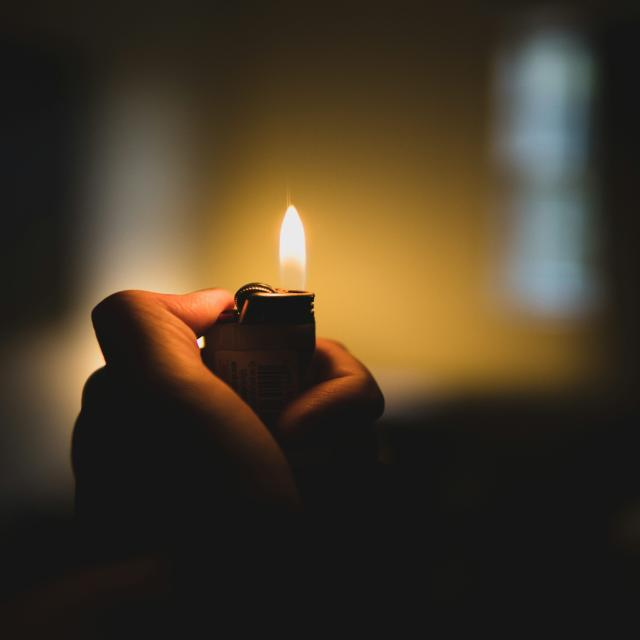fire: (279, 205, 308, 291)
